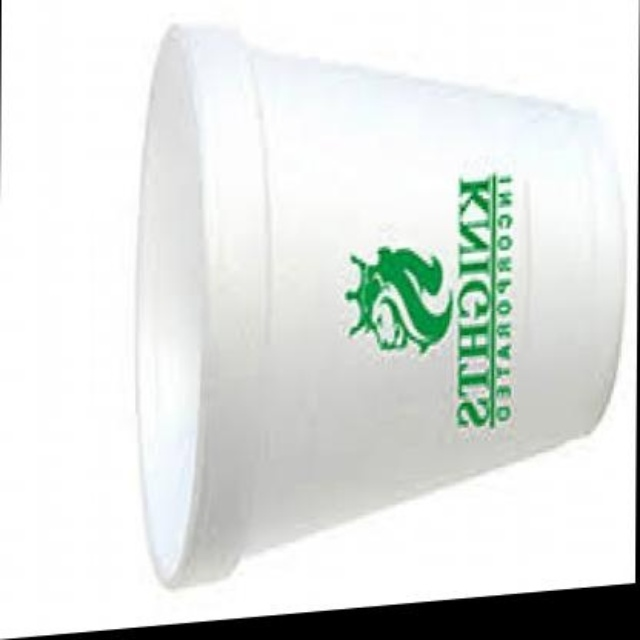trash: (137, 25, 623, 585)
